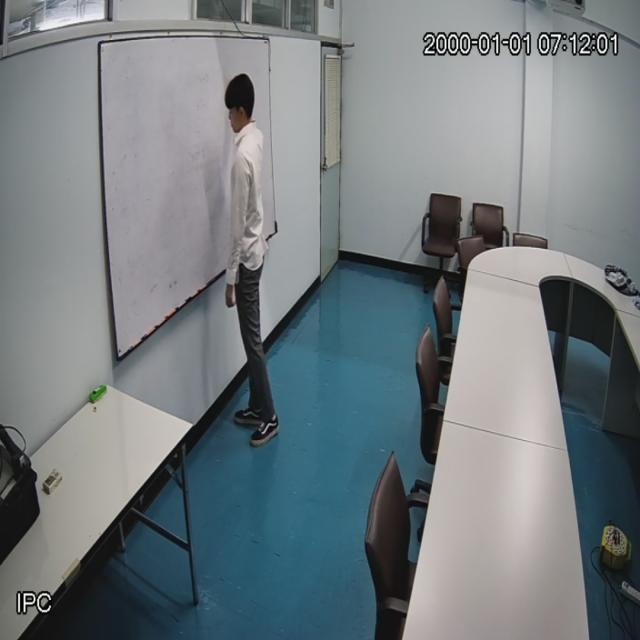normal: (224, 74, 279, 449)
